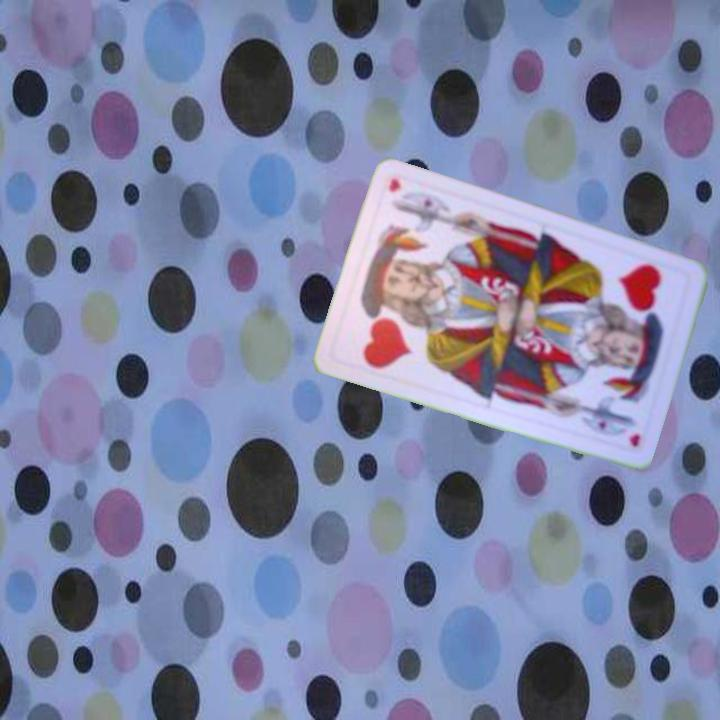h_j.png: (583, 246, 694, 366), (330, 264, 441, 384)
